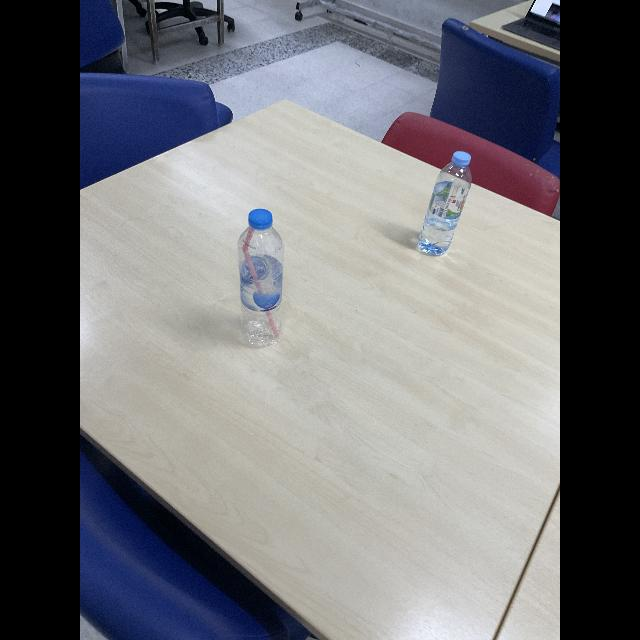plastic_bottle: (236, 207, 288, 349), (416, 150, 474, 260)
plastic_bottle_cap: (248, 208, 274, 230), (452, 151, 470, 167)
straw: (242, 226, 280, 342)
